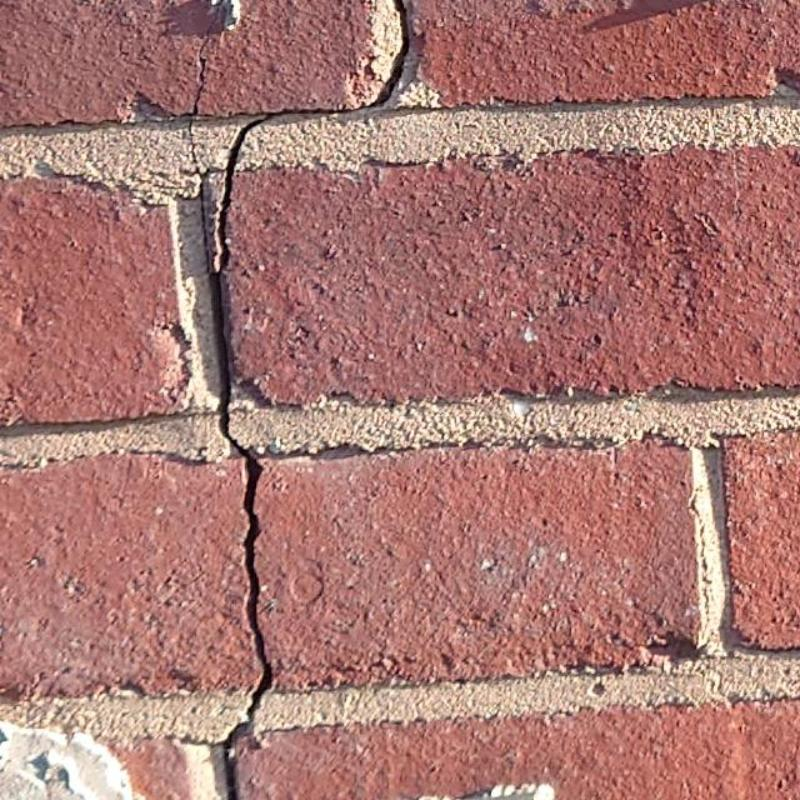pothole: (215, 0, 409, 799), (188, 1, 224, 274)
